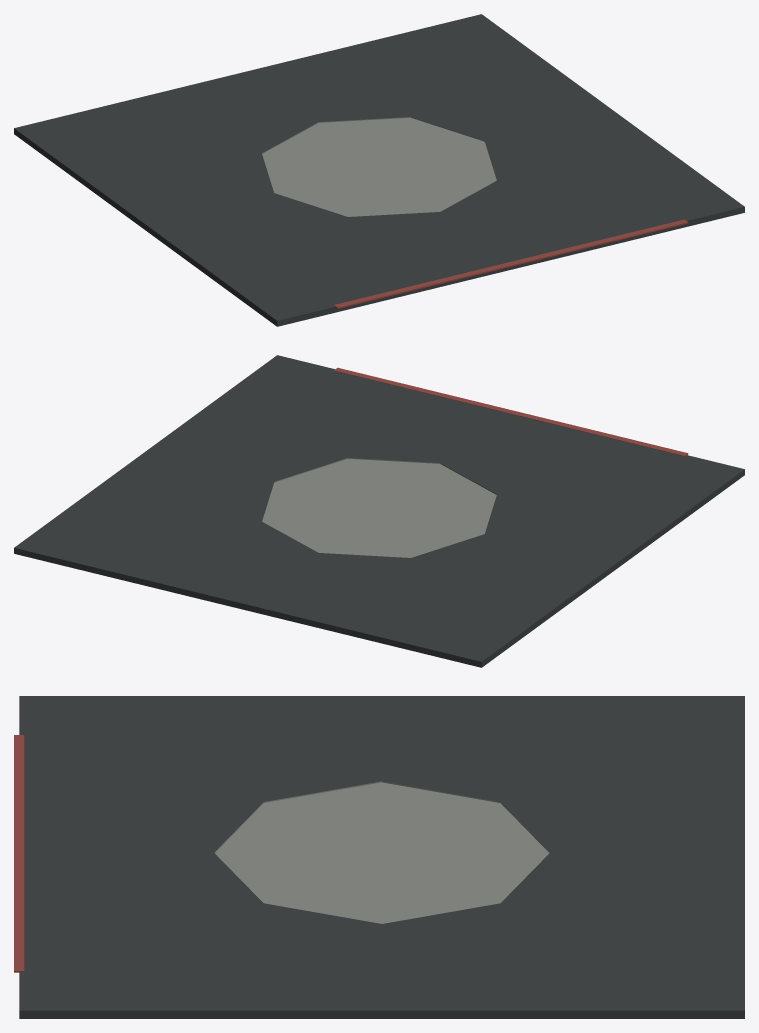
Rendered from rag_rug.glb.
3 renders of one model, top to bottom at view 1: azimuth 30°, elevation 25°; view 2: azimuth 150°, elevation 25°; view 3: azimuth 270°, elevation 25°, orthographic. The views are drawn at different scales.
Visible parts, largest first — view 1: body; view 2: body; view 3: body.
Part boxes in pixels (x1,y1,x2,y2): body: (14,14,744,326); body: (14,355,744,667); body: (14,696,744,1018).
Size of the model in its own units: 1.28 by 0.018 by 1.26.
1 material, 1 textured.
